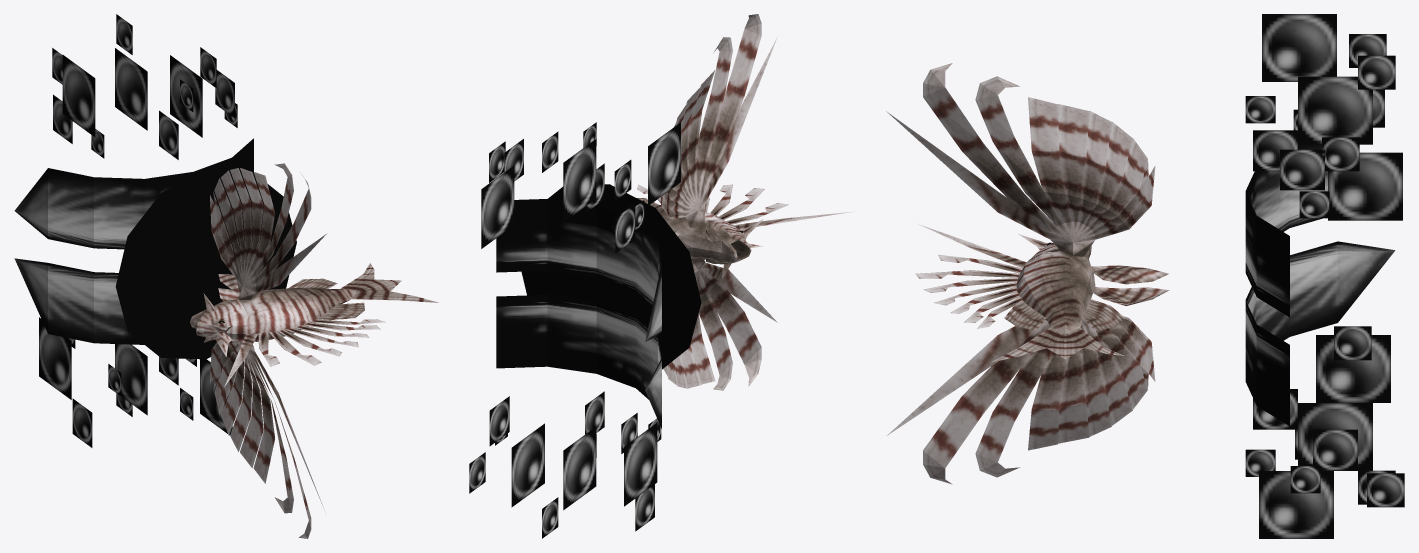
3 renders of one model, left to right at view 1: azimuth 30°, elevation 25°; view 2: azimuth 150°, elevation 25°; view 3: azimuth 270°, elevation 25°, orthographic. The views are drawn at different scales.
Parts seen in each view (by area): view 1: M_0036_0, M_0036_1; view 2: M_0036_1, M_0036_0; view 3: M_0036_1, M_0036_0.
Part boxes in pixels (box(x1,y1,x2,y2)): M_0036_0: box(115, 163, 438, 538); M_0036_1: box(14, 14, 253, 447); M_0036_1: box(469, 122, 680, 538); M_0036_0: box(521, 14, 855, 390); M_0036_1: box(1245, 14, 1404, 538); M_0036_0: box(886, 63, 1169, 484).
Size of the model in its own units: 3.96 by 5.98 by 6.23.
2 materials, 2 textured.
